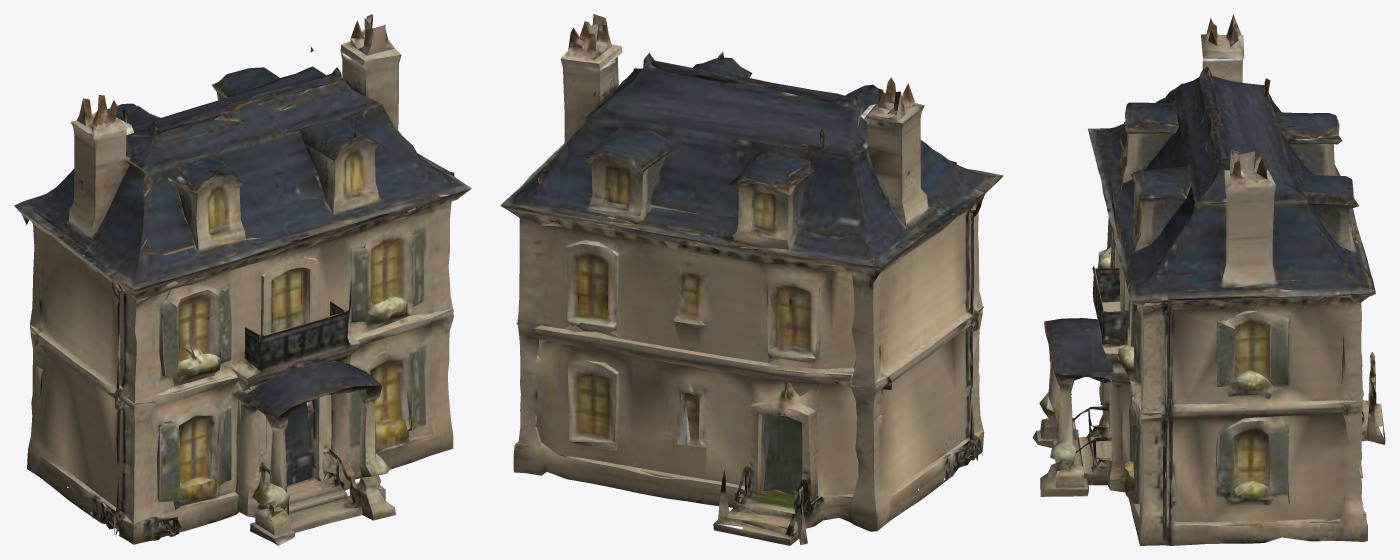
File: hotel_2.glb
3 renders of one model, left to right at view 1: azimuth 30°, elevation 25°; view 2: azimuth 150°, elevation 25°; view 3: azimuth 270°, elevation 25°, orthographic. The views are drawn at different scales.
Visible parts, largest first — view 1: classic__hotel_2__neural_lod; view 2: classic__hotel_2__neural_lod; view 3: classic__hotel_2__neural_lod.
Boxes of the visible parts, x1,y1,x2,y2 form: classic__hotel_2__neural_lod: (14,14,471,545); classic__hotel_2__neural_lod: (500,14,1003,545); classic__hotel_2__neural_lod: (1032,14,1385,545).
Bounding box in the file's own units: 0.9408 × 0.9823 × 0.8137.
1 material, 1 textured.
